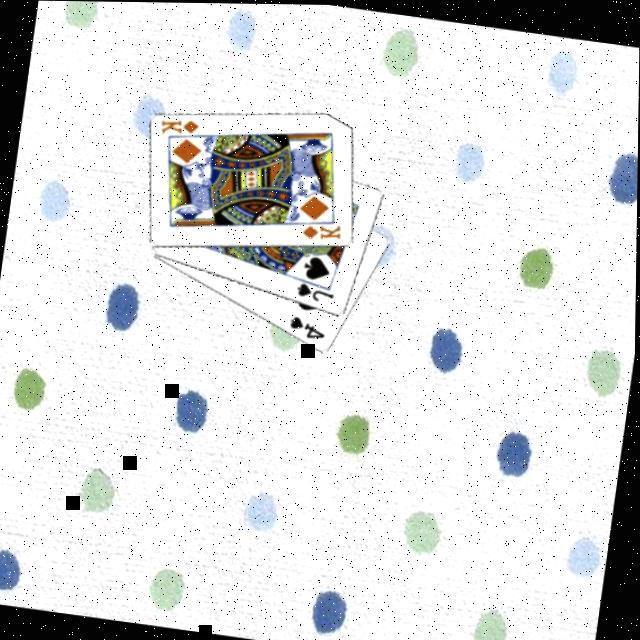4S: (284, 311, 328, 343)
JS: (291, 278, 336, 306)
KD: (297, 217, 343, 245), (155, 113, 200, 141)
